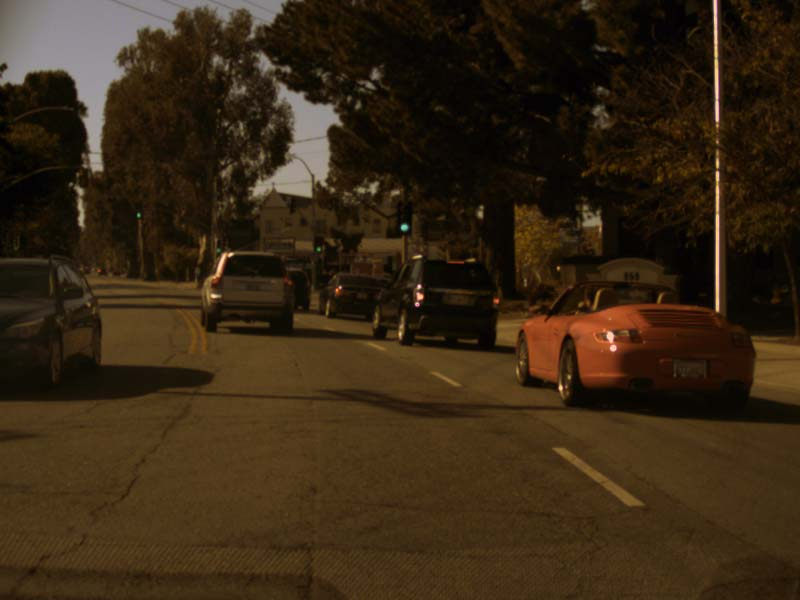Green: (397, 206, 411, 236), (313, 235, 322, 253), (11, 233, 19, 251), (134, 203, 141, 218), (216, 239, 221, 256)
